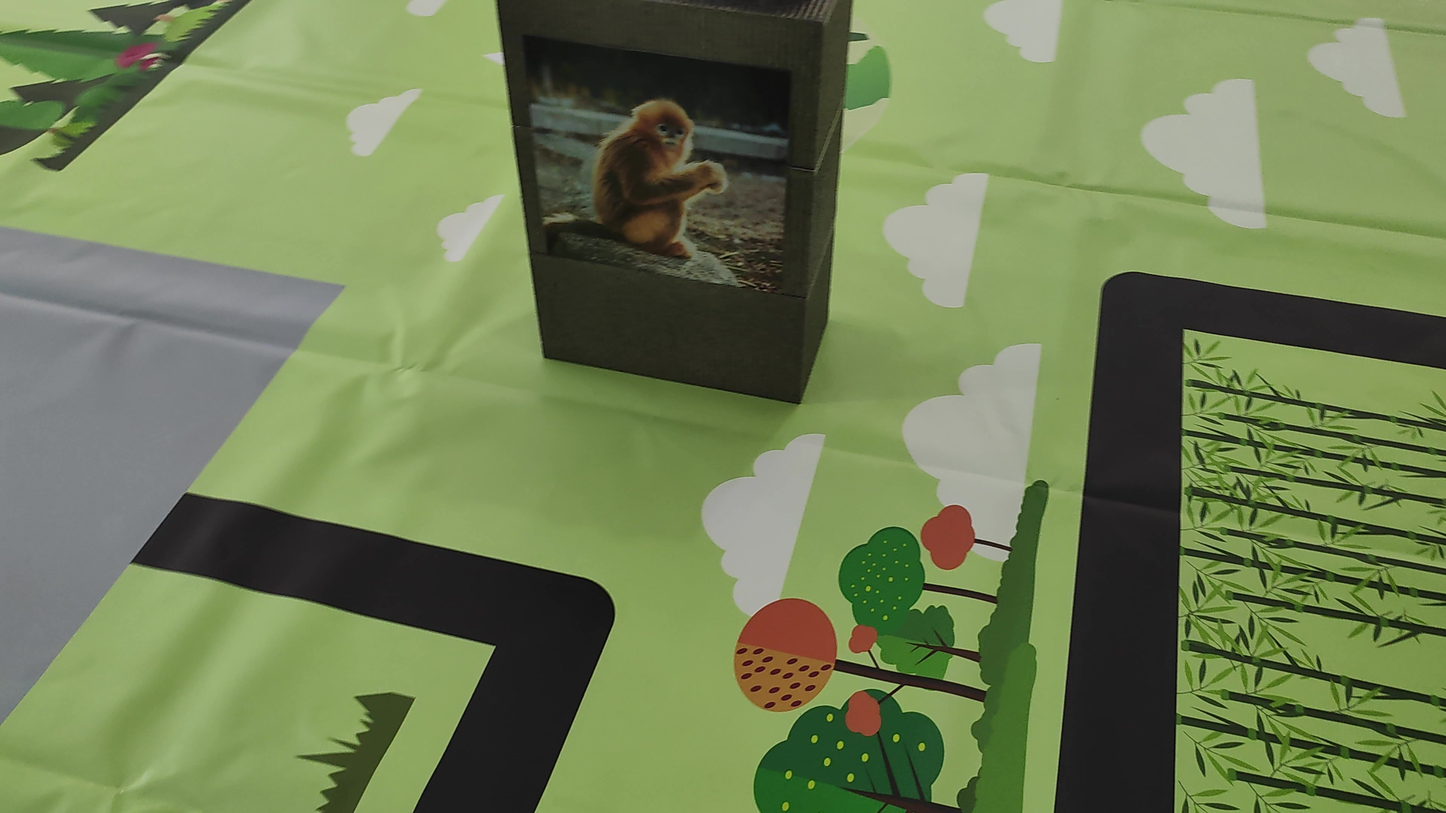monkey: (533, 60, 732, 278)
